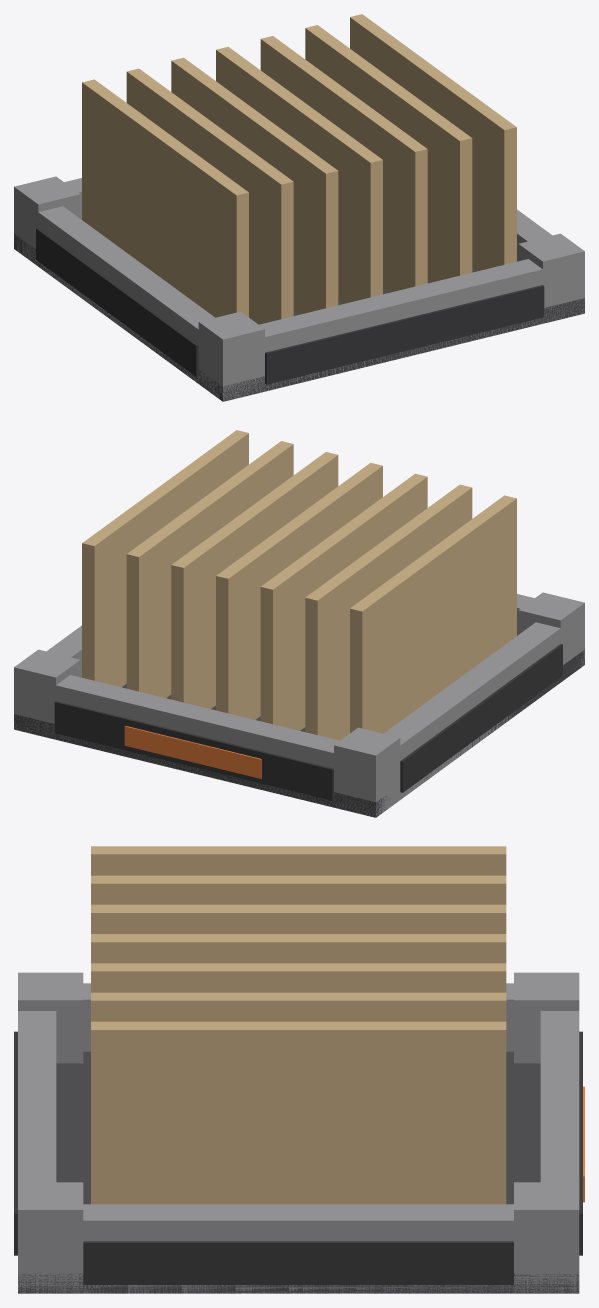
Rendered from vge_large_heatsink.obj.
3 views of the same model, one above another, from view 1: azimuth 30°, elevation 25°; view 2: azimuth 150°, elevation 25°; view 3: azimuth 270°, elevation 25° (orthographic). The views are drawn at different scales.
Parts seen in each view (by area): view 1: vge_large_heatsink_9, vge_large_heatsink_1, vge_large_heatsink_11, vge_large_heatsink_14, vge_large_heatsink_13, vge_large_heatsink_12, vge_large_heatsink_15, vge_large_heatsink_10, vge_large_heatsink_16, vge_large_heatsink_3, vge_large_heatsink_18, vge_large_heatsink_0 (+5 smaller); view 2: vge_large_heatsink_9, vge_large_heatsink_2, vge_large_heatsink_11, vge_large_heatsink_14, vge_large_heatsink_13, vge_large_heatsink_12, vge_large_heatsink_15, vge_large_heatsink_10, vge_large_heatsink_3, vge_large_heatsink_17, vge_large_heatsink_18, vge_large_heatsink_0 (+6 smaller); view 3: vge_large_heatsink_15, vge_large_heatsink_4, vge_large_heatsink_19, vge_large_heatsink_0, vge_large_heatsink_9, vge_large_heatsink_13, vge_large_heatsink_10, vge_large_heatsink_11, vge_large_heatsink_12, vge_large_heatsink_14, vge_large_heatsink_2, vge_large_heatsink_1 (+7 smaller).
Part boxes in pixels (box(x1,y1,x2,y2)): vge_large_heatsink_9: box(82, 79, 248, 317); vge_large_heatsink_1: box(208, 259, 584, 401); vge_large_heatsink_11: box(171, 57, 338, 314); vge_large_heatsink_14: box(305, 25, 472, 281); vge_large_heatsink_13: box(260, 36, 427, 292); vge_large_heatsink_12: box(216, 46, 382, 303); vge_large_heatsink_15: box(350, 14, 516, 271); vge_large_heatsink_10: box(126, 68, 293, 324); vge_large_heatsink_16: box(265, 285, 544, 384); vge_large_heatsink_3: box(28, 205, 214, 390); vge_large_heatsink_18: box(36, 228, 198, 376); vge_large_heatsink_0: box(14, 233, 584, 401); vge_large_heatsink_9: box(350, 495, 516, 733); vge_large_heatsink_2: box(14, 675, 390, 817); vge_large_heatsink_11: box(260, 473, 427, 730); vge_large_heatsink_14: box(126, 441, 293, 697); vge_large_heatsink_13: box(171, 452, 338, 708); vge_large_heatsink_12: box(216, 462, 382, 719); vge_large_heatsink_15: box(82, 430, 248, 687); vge_large_heatsink_10: box(305, 484, 472, 740); vge_large_heatsink_3: box(384, 622, 566, 806); vge_large_heatsink_17: box(54, 701, 333, 800); vge_large_heatsink_18: box(400, 644, 562, 792); vge_large_heatsink_0: box(14, 649, 584, 817); vge_large_heatsink_15: box(91, 1021, 506, 1204); vge_large_heatsink_4: box(56, 1204, 540, 1293); vge_large_heatsink_19: box(83, 1241, 513, 1284); vge_large_heatsink_0: box(18, 1051, 579, 1293); vge_large_heatsink_9: box(91, 846, 506, 875); vge_large_heatsink_13: box(91, 963, 506, 992); vge_large_heatsink_10: box(91, 875, 506, 904); vge_large_heatsink_11: box(91, 904, 506, 933); vge_large_heatsink_12: box(91, 934, 506, 963); vge_large_heatsink_14: box(91, 992, 506, 1021); vge_large_heatsink_2: box(540, 1011, 579, 1293); vge_large_heatsink_1: box(18, 1011, 56, 1293).
Size of the model in its own units: 2.96 by 1.36 by 2.97.
